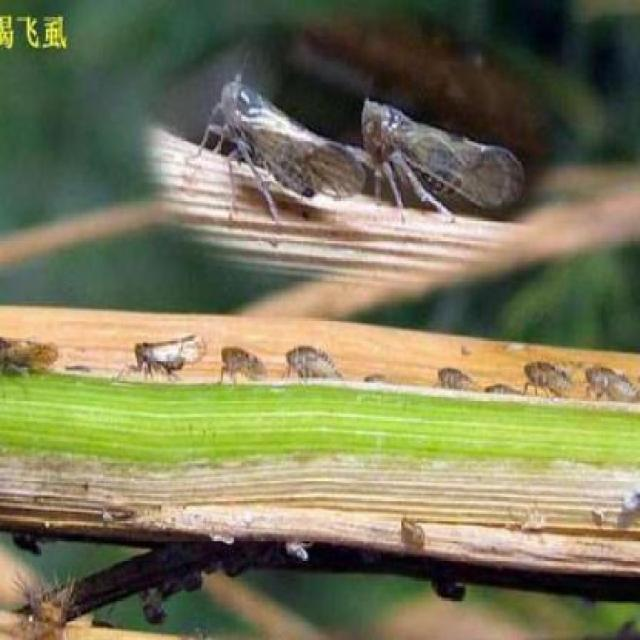brown-planthopper: (363, 94, 532, 226), (208, 73, 364, 213), (123, 338, 205, 385), (586, 360, 640, 412), (218, 342, 272, 392), (521, 358, 574, 402), (282, 345, 336, 386), (0, 336, 62, 369), (398, 514, 430, 548)
